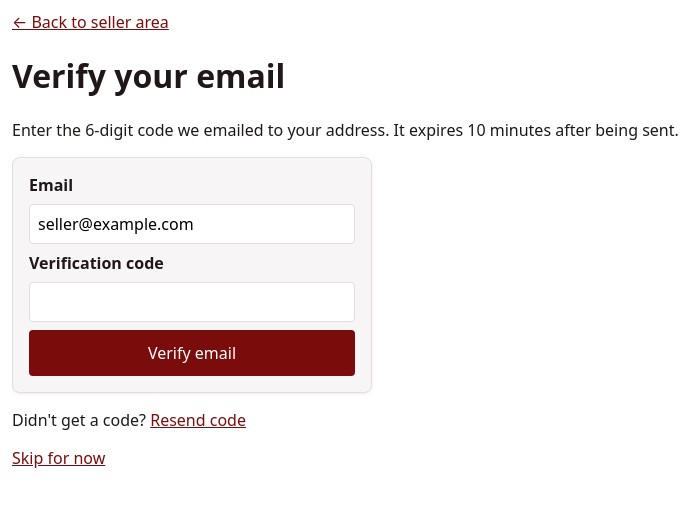
Test case: VerifyEmail › resends the code and shows the generic sent message
What coordinates should you click on to do the following:
click the button "Resend code"
I would click on:
 (198, 420)
Its box is [150,409,246,431].
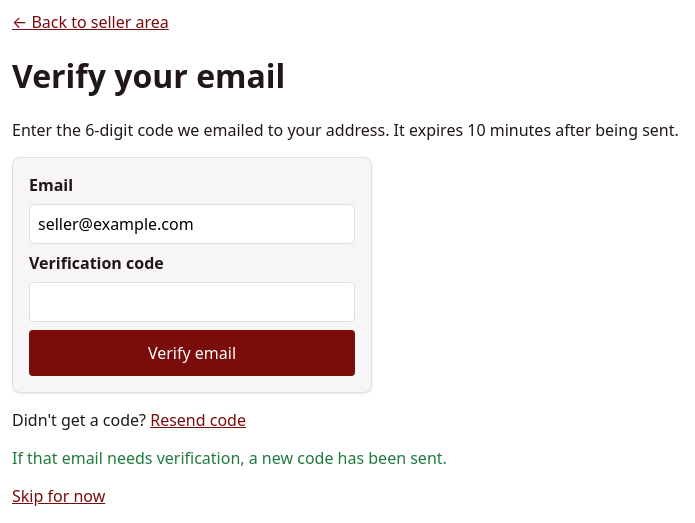
Check: the text "If that email needs verification, a new code has been sent." is shown, box [12,447,447,469]
